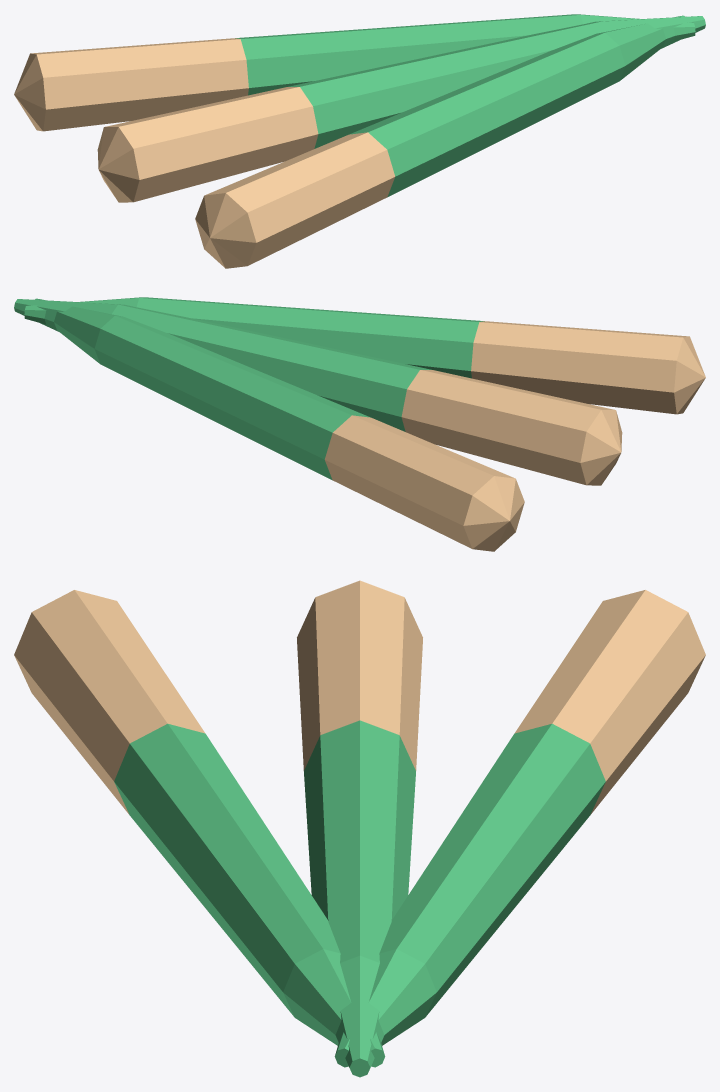
The model's file is lemongrass-raw.glb.
3 renders of one model, top to bottom at view 1: azimuth 30°, elevation 25°; view 2: azimuth 150°, elevation 25°; view 3: azimuth 270°, elevation 25°, orthographic. The views are drawn at different scales.
Parts seen in each view (by area): view 1: lemongrass-raw; view 2: lemongrass-raw; view 3: lemongrass-raw.
Part boxes in pixels (x1=…): lemongrass-raw: x1=14, y1=14, x2=705, y2=268; lemongrass-raw: x1=14, y1=297, x2=705, y2=551; lemongrass-raw: x1=14, y1=580, x2=705, y2=1077.
Bounding box in the file's own units: 0.3 × 0.036 × 0.1971.
Materials: 1 (1 with a texture image).
